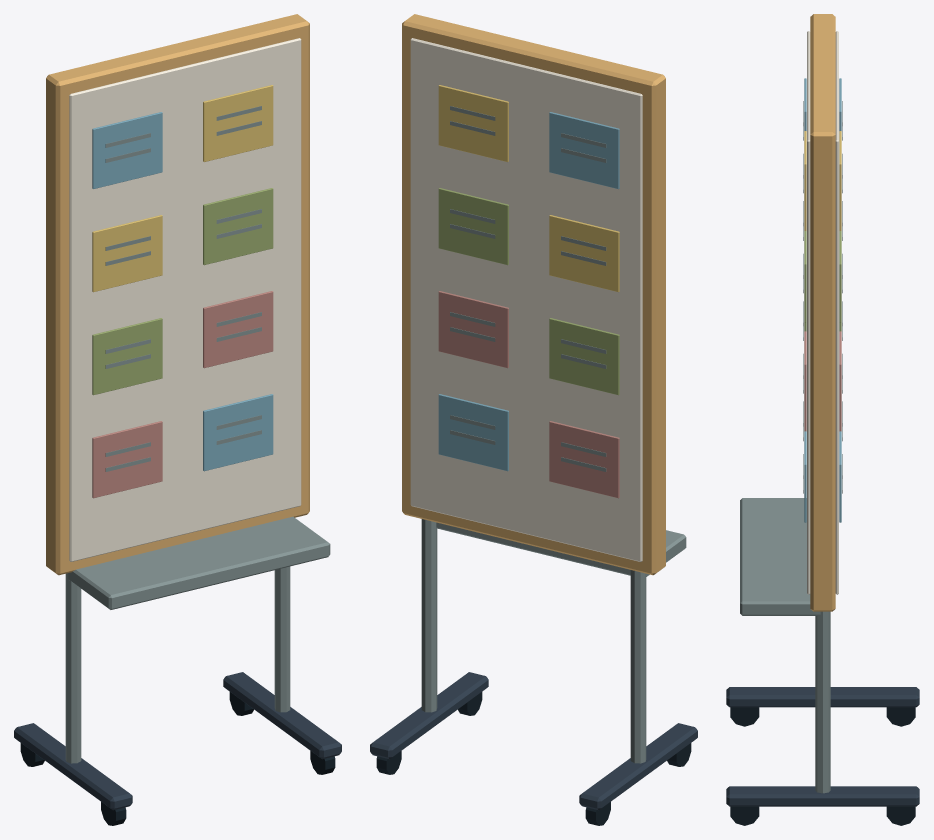
The model's file is whiteboard_vertical.glb.
3 renders of one model, left to right at view 1: azimuth 30°, elevation 25°; view 2: azimuth 150°, elevation 25°; view 3: azimuth 270°, elevation 25°, orthographic. The views are drawn at different scales.
Parts seen in each view (by area): view 1: whiteboard_vertical__white, whiteboard_vertical__oak_light, whiteboard_vertical__metal_light, whiteboard_vertical__sticky_yellow, whiteboard_vertical__sticky_pink, whiteboard_vertical__sticky_blue, whiteboard_vertical__sticky_green, whiteboard_vertical__metal, whiteboard_vertical__black; view 2: whiteboard_vertical__white, whiteboard_vertical__oak_light, whiteboard_vertical__metal_light, whiteboard_vertical__sticky_yellow, whiteboard_vertical__sticky_pink, whiteboard_vertical__sticky_blue, whiteboard_vertical__sticky_green, whiteboard_vertical__metal, whiteboard_vertical__black; view 3: whiteboard_vertical__oak_light, whiteboard_vertical__metal_light, whiteboard_vertical__metal, whiteboard_vertical__white, whiteboard_vertical__black, whiteboard_vertical__sticky_blue, whiteboard_vertical__sticky_green, whiteboard_vertical__sticky_pink, whiteboard_vertical__sticky_yellow.
Part boxes in pixels (x1,y1,x2,y2): whiteboard_vertical__white: (69, 38, 301, 561); whiteboard_vertical__oak_light: (46, 14, 309, 575); whiteboard_vertical__metal_light: (65, 106, 330, 763); whiteboard_vertical__sticky_yellow: (92, 85, 273, 292); whiteboard_vertical__sticky_pink: (92, 291, 273, 498); whiteboard_vertical__sticky_blue: (92, 112, 273, 471); whiteboard_vertical__sticky_green: (92, 188, 273, 395); whiteboard_vertical__metal: (14, 672, 341, 810); whiteboard_vertical__black: (20, 692, 335, 825); whiteboard_vertical__white: (410, 38, 642, 561); whiteboard_vertical__oak_light: (402, 14, 665, 575); whiteboard_vertical__metal_light: (421, 106, 686, 763); whiteboard_vertical__sticky_yellow: (438, 85, 619, 292); whiteboard_vertical__sticky_pink: (438, 291, 619, 498); whiteboard_vertical__sticky_blue: (438, 112, 619, 471); whiteboard_vertical__sticky_green: (438, 188, 619, 395); whiteboard_vertical__metal: (370, 672, 697, 810); whiteboard_vertical__black: (376, 692, 691, 825); whiteboard_vertical__oak_light: (810, 14, 835, 611); whiteboard_vertical__metal_light: (740, 101, 842, 793); whiteboard_vertical__metal: (726, 687, 919, 806); whiteboard_vertical__white: (807, 31, 838, 594); whiteboard_vertical__black: (730, 707, 915, 825); whiteboard_vertical__sticky_blue: (804, 78, 841, 522); whiteboard_vertical__sticky_green: (804, 231, 841, 331); whiteboard_vertical__sticky_pink: (804, 331, 841, 431); whiteboard_vertical__sticky_yellow: (804, 131, 841, 230).
Bounding box in the file's own units: 0.62 × 1.68 × 0.42.
